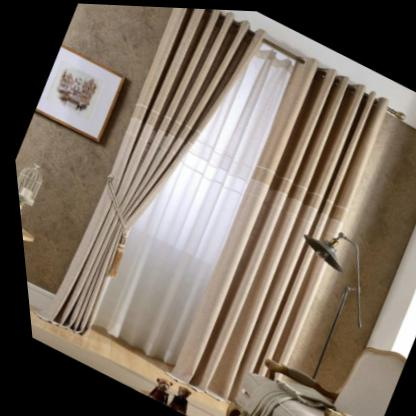Curtains: (15, 1, 416, 416)
Frame: (26, 39, 135, 149)
